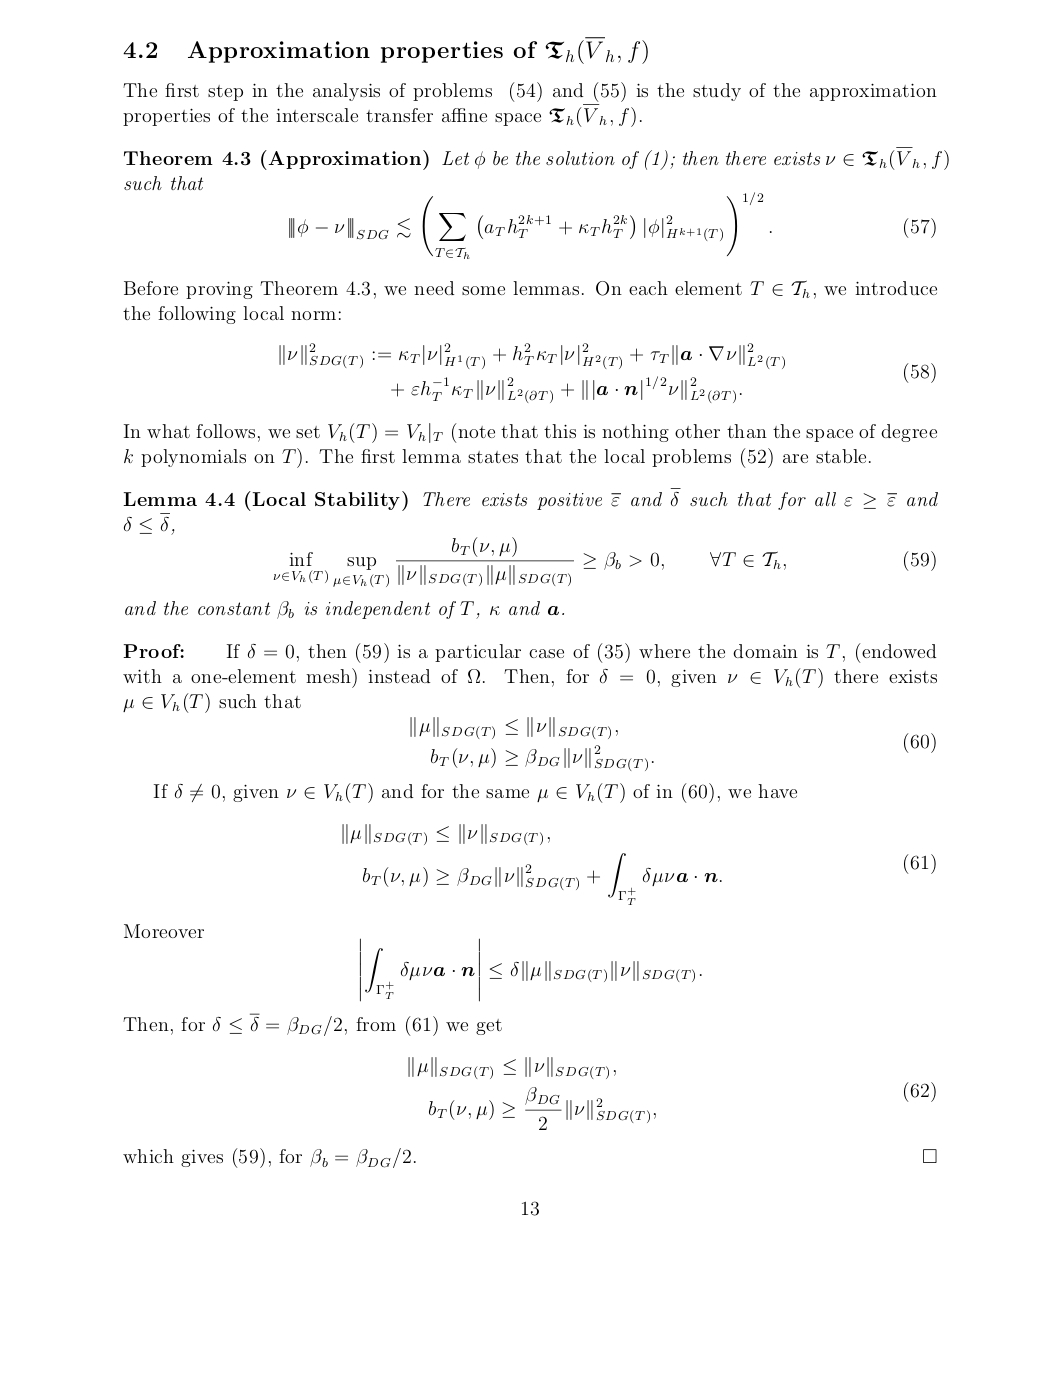formula: (289, 192, 935, 259), (279, 342, 935, 405), (273, 536, 935, 588), (363, 853, 935, 905), (410, 715, 935, 772), (429, 1081, 935, 1130), (359, 937, 701, 1002), (342, 822, 549, 846), (408, 1056, 615, 1080)
